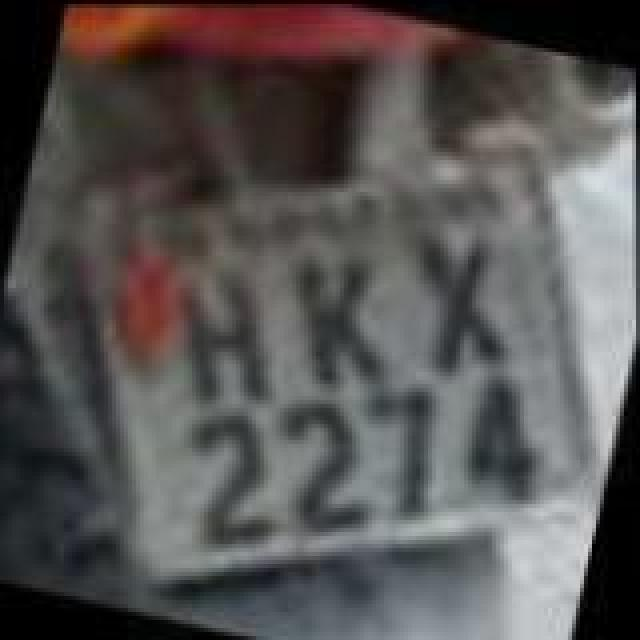2: (252, 380, 396, 548), (158, 400, 298, 560)
4: (446, 362, 562, 506)
7: (340, 368, 460, 524)
H: (160, 252, 300, 420)
K: (264, 232, 412, 400)
X: (386, 218, 530, 382)
